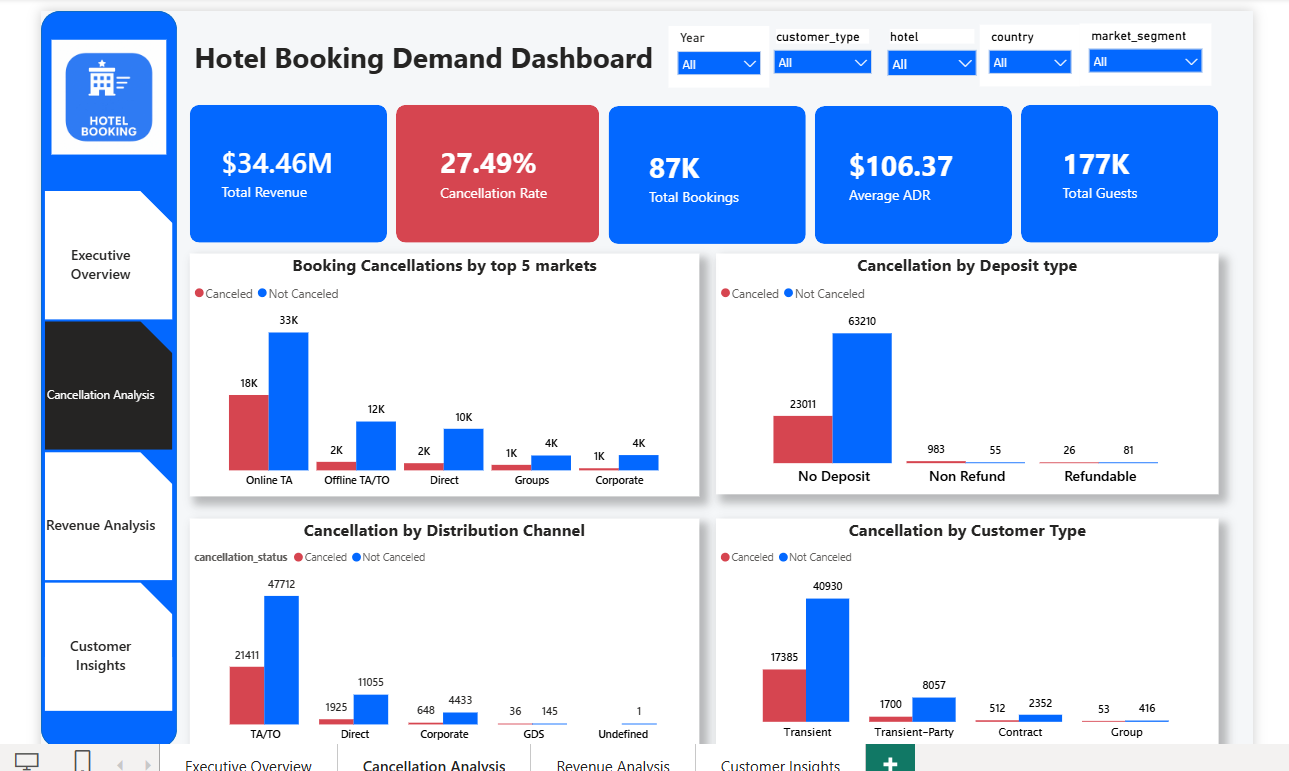

The page's visual inventory and layout, read from the dashboard file:
{"tool":"powerbi","page":{"name":"Cancellation Analysis","canvas":[1385,853],"ordinal":1},"visuals":[{"type":"clusteredColumnChart","title":"Cancellation by Deposit type","fields":{"Category":["hotel_booking_no_duplicates.deposit_type"],"Y":["Count(hotel_booking_no_duplicates.booking_id)"],"Series":["hotel_booking_no_duplicates.cancellation_status"]},"box":[771.1,277.8,574.4,275.6],"z":0},{"type":"shape","box":[0,0,155.6,842.2],"z":1000},{"type":"shape","box":[170,106.7,225.6,157.8],"z":2000},{"type":"clusteredColumnChart","title":"Cancellation by Distribution Channel","fields":{"Category":["hotel_booking_no_duplicates.distribution_channel"],"Y":["CountNonNull(hotel_booking_no_duplicates.booking_id)"],"Series":["hotel_booking_no_duplicates.cancellation_status"]},"box":[170,580,582.2,265.6],"z":3000},{"type":"clusteredColumnChart","title":"Booking Cancellations by top 5 markets","fields":{"Category":["hotel_booking_no_duplicates.market_segment"],"Y":["CountNonNull(hotel_booking_no_duplicates.booking_id)"],"Series":["hotel_booking_no_duplicates.cancellation_status"]},"box":[170,277.8,582.2,277.8],"z":4000},{"type":"clusteredColumnChart","title":"Cancellation by Customer Type","fields":{"Category":["hotel_booking_no_duplicates.customer_type"],"Y":["CountNonNull(hotel_booking_no_duplicates.booking_id)"],"Series":["hotel_booking_no_duplicates.cancellation_status"]},"box":[771.1,580,574.4,265.6],"z":5000},{"type":"textbox","box":[170,25.6,541.1,72.2],"z":6000},{"type":"shape","box":[405.8,106.7,232.2,157.8],"z":7000},{"type":"shape","box":[648.3,108.9,225.6,157.8],"z":8000},{"type":"shape","box":[884.2,108.9,225.6,157.8],"z":9000},{"type":"shape","box":[1120,106.7,225.6,157.8],"z":10000},{"type":"cardVisual","fields":{"Data":["hotel_booking_no_duplicates.Average ADR"]},"box":[894.4,118.9,196.7,137.8],"z":11000},{"type":"image","box":[0,32.2,155.6,131.1],"z":12000},{"type":"cardVisual","fields":{"Data":["hotel_booking_no_duplicates.Total Bookings"]},"box":[665.6,122.2,186.7,133.3],"z":13000},{"type":"cardVisual","fields":{"Data":["hotel_booking_no_duplicates.Cancellation Rate"]},"box":[426.7,115.6,193.3,137.8],"z":14000},{"type":"cardVisual","fields":{"Data":["hotel_booking_no_duplicates.Total Guests"]},"box":[1138.9,125.6,187.8,118.9],"z":15000},{"type":"slicer","fields":{"Values":["hotel_booking_no_duplicates.hotel"]},"box":[957.8,15.6,122.2,70],"z":16000},{"type":"slicer","fields":{"Values":["hotel_booking_no_duplicates.customer_type"]},"box":[827.8,15.6,132.2,70],"z":17000},{"type":"slicer","fields":{"Values":["hotel_booking_no_duplicates.arrival_date.Variation.Date Hierarchy.Year"]},"box":[717.8,16.7,115.6,70],"z":18000},{"type":"slicer","fields":{"Values":["hotel_booking_no_duplicates.country"]},"box":[1072.2,15.6,114.4,70],"z":19000},{"type":"slicer","fields":{"Values":["hotel_booking_no_duplicates.market_segment"]},"box":[1186.7,14.4,150,71.1],"z":20000},{"type":"cardVisual","fields":{"Data":["hotel_booking_no_duplicates.Total Revenue"]},"box":[176.7,113.3,210,141.1],"z":21000},{"type":"pageNavigator","box":[4.4,205.6,146.7,597.8],"z":22000}]}

Visuals, with their boxes on the page's 1385x853 design canvas (x1, y1, x2, y2). These are canvas units, not pixel positions in the 1289x771 screenshot, which may show the page scaled, cropped or inside an application window:
"Cancellation by Deposit type" clusteredColumnChart: {"x1": 771, "y1": 278, "x2": 1346, "y2": 553}
shape: {"x1": 0, "y1": 0, "x2": 156, "y2": 842}
shape: {"x1": 170, "y1": 107, "x2": 396, "y2": 264}
"Cancellation by Distribution Channel" clusteredColumnChart: {"x1": 170, "y1": 580, "x2": 752, "y2": 846}
"Booking Cancellations by top 5 markets" clusteredColumnChart: {"x1": 170, "y1": 278, "x2": 752, "y2": 556}
"Cancellation by Customer Type" clusteredColumnChart: {"x1": 771, "y1": 580, "x2": 1346, "y2": 846}
textbox: {"x1": 170, "y1": 26, "x2": 711, "y2": 98}
shape: {"x1": 406, "y1": 107, "x2": 638, "y2": 264}
shape: {"x1": 648, "y1": 109, "x2": 874, "y2": 267}
shape: {"x1": 884, "y1": 109, "x2": 1110, "y2": 267}
shape: {"x1": 1120, "y1": 107, "x2": 1346, "y2": 264}
cardVisual - hotel_booking_no_duplicates.Average ADR: {"x1": 894, "y1": 119, "x2": 1091, "y2": 257}
image: {"x1": 0, "y1": 32, "x2": 156, "y2": 163}
cardVisual - hotel_booking_no_duplicates.Total Bookings: {"x1": 666, "y1": 122, "x2": 852, "y2": 256}
cardVisual - hotel_booking_no_duplicates.Cancellation Rate: {"x1": 427, "y1": 116, "x2": 620, "y2": 253}
cardVisual - hotel_booking_no_duplicates.Total Guests: {"x1": 1139, "y1": 126, "x2": 1327, "y2": 244}
slicer - hotel_booking_no_duplicates.hotel: {"x1": 958, "y1": 16, "x2": 1080, "y2": 86}
slicer - hotel_booking_no_duplicates.customer_type: {"x1": 828, "y1": 16, "x2": 960, "y2": 86}
slicer - hotel_booking_no_duplicates.arrival_date.Variation.Date Hierarchy.Year: {"x1": 718, "y1": 17, "x2": 833, "y2": 87}
slicer - hotel_booking_no_duplicates.country: {"x1": 1072, "y1": 16, "x2": 1187, "y2": 86}
slicer - hotel_booking_no_duplicates.market_segment: {"x1": 1187, "y1": 14, "x2": 1337, "y2": 86}
cardVisual - hotel_booking_no_duplicates.Total Revenue: {"x1": 177, "y1": 113, "x2": 387, "y2": 254}
pageNavigator: {"x1": 4, "y1": 206, "x2": 151, "y2": 803}
